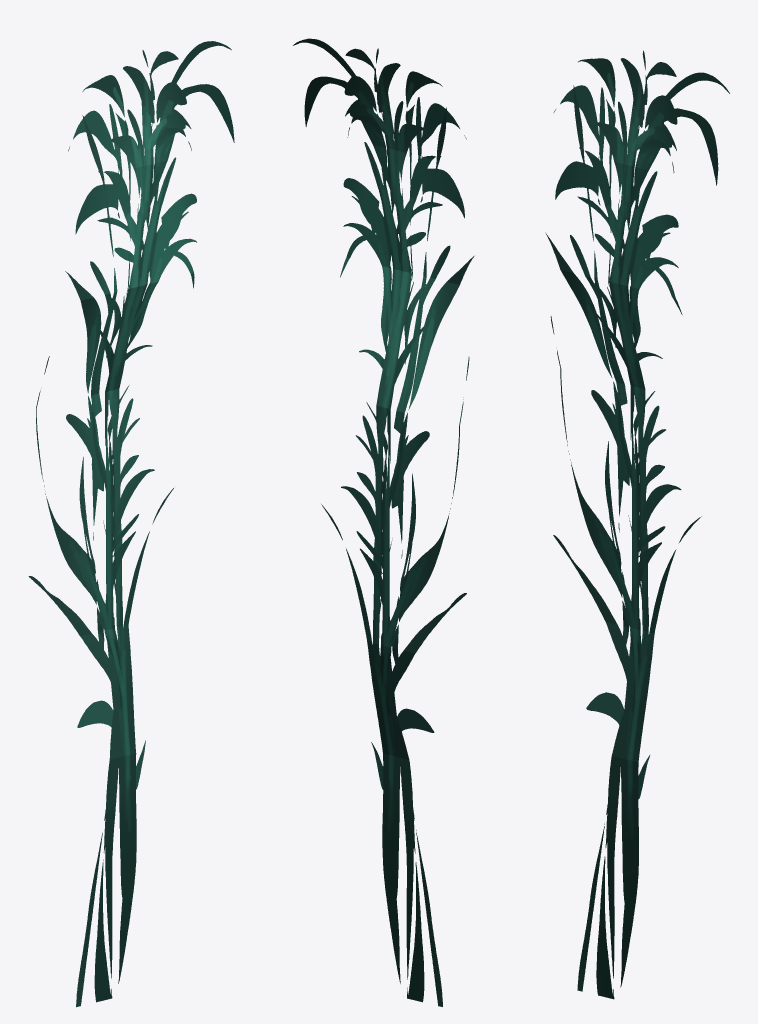
File: Kelp4.fbx
The picture shows the model from 3 angles, left to right: view 1: azimuth 30°, elevation 25°; view 2: azimuth 150°, elevation 25°; view 3: azimuth 330°, elevation 25°; orthographic projection.
Parts seen in each view (by area): view 1: Kelp 4; view 2: Kelp 4; view 3: Kelp 4.
Boxes of the visible parts, x1,y1,x2,y2 form: Kelp 4: (28,41,234,1007); Kelp 4: (293,38,474,1006); Kelp 4: (545,50,729,999).
Size of the model in its own units: 515 by 2195 by 93.61.
1 material, 1 textured.
